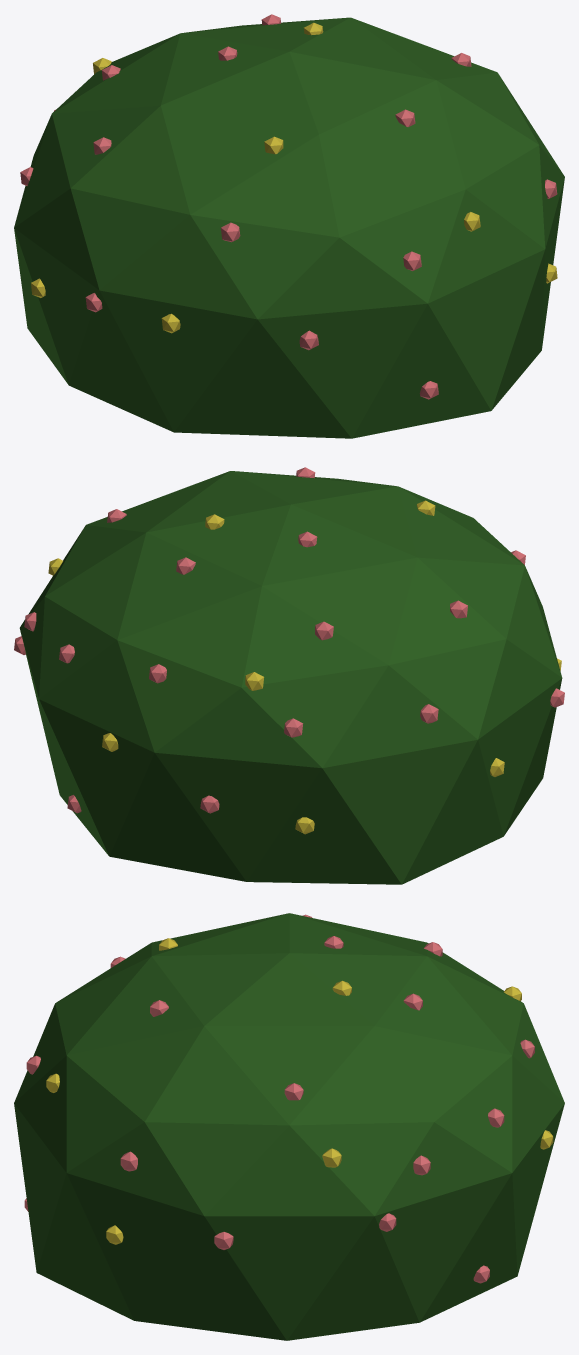
File: RainbowKust.fbx
3 views of the same model, one above another, from view 1: azimuth 30°, elevation 25°; view 2: azimuth 150°, elevation 25°; view 3: azimuth 270°, elevation 25° (orthographic).
Visible parts, largest first — view 1: Kust; view 2: Kust; view 3: Kust.
Part boxes in pixels (bbox=[...]): Kust: bbox=[14, 17, 564, 438]; Kust: bbox=[19, 471, 562, 884]; Kust: bbox=[14, 913, 564, 1340].
Size of the model in its own units: 48.54 by 29.34 by 48.83.
